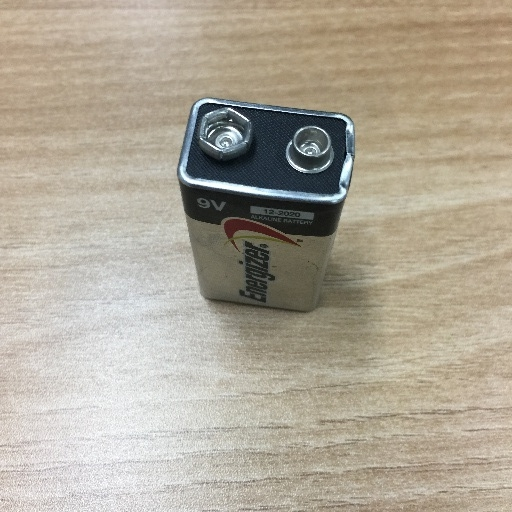Battery_3: (162, 78, 385, 332)
